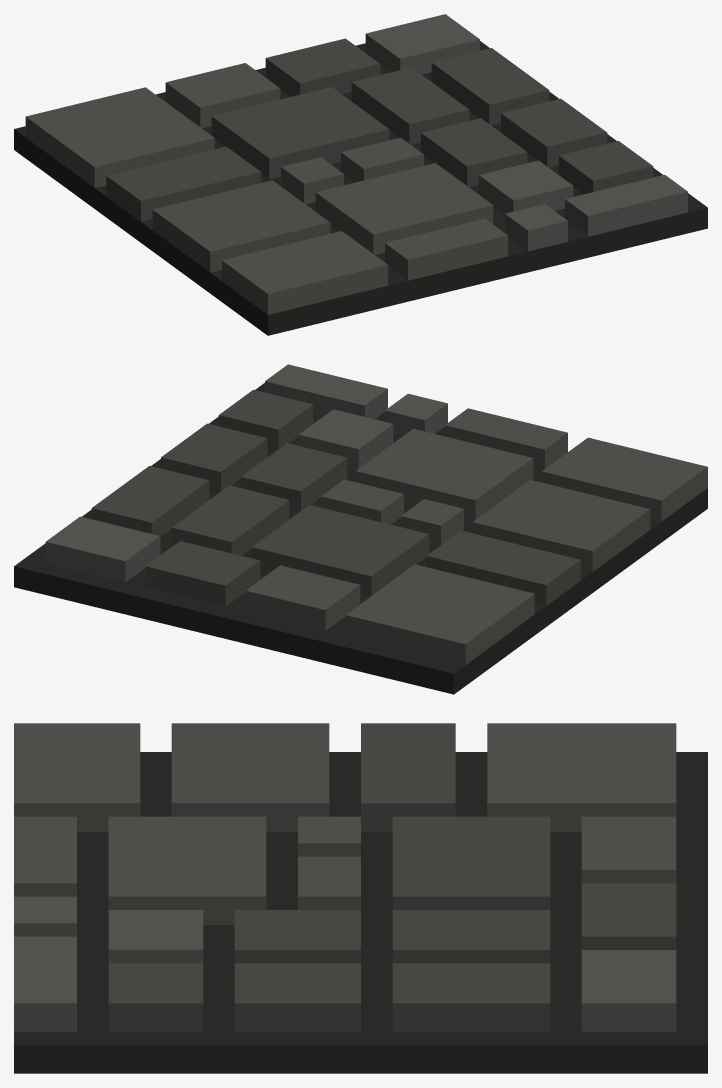
Rendered from tile_sewers_EMPTY.glb.
The picture shows the model from 3 angles, top to bottom: view 1: azimuth 30°, elevation 25°; view 2: azimuth 150°, elevation 25°; view 3: azimuth 270°, elevation 25°; orthographic projection. The views are drawn at different scales.
Parts seen in each view (by area): view 1: tile_sewers_EMPTY_v3; view 2: tile_sewers_EMPTY_v3; view 3: tile_sewers_EMPTY_v3.
Part boxes in pixels (x1,y1,x2,y2): tile_sewers_EMPTY_v3: (14,14,707,335); tile_sewers_EMPTY_v3: (14,364,707,694); tile_sewers_EMPTY_v3: (14,723,707,1073).
Size of the model in its own units: 1 by 0.0909 by 1.
1 material, 1 textured.
